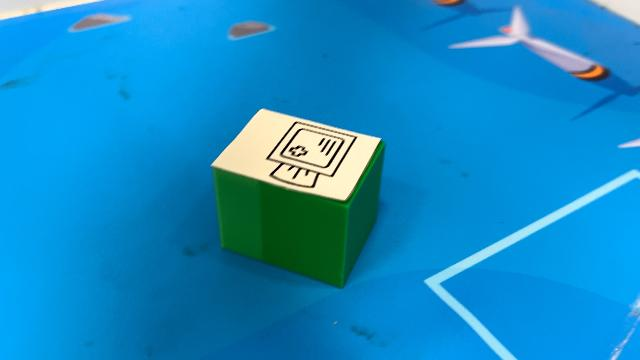napkin: (208, 105, 388, 289)
